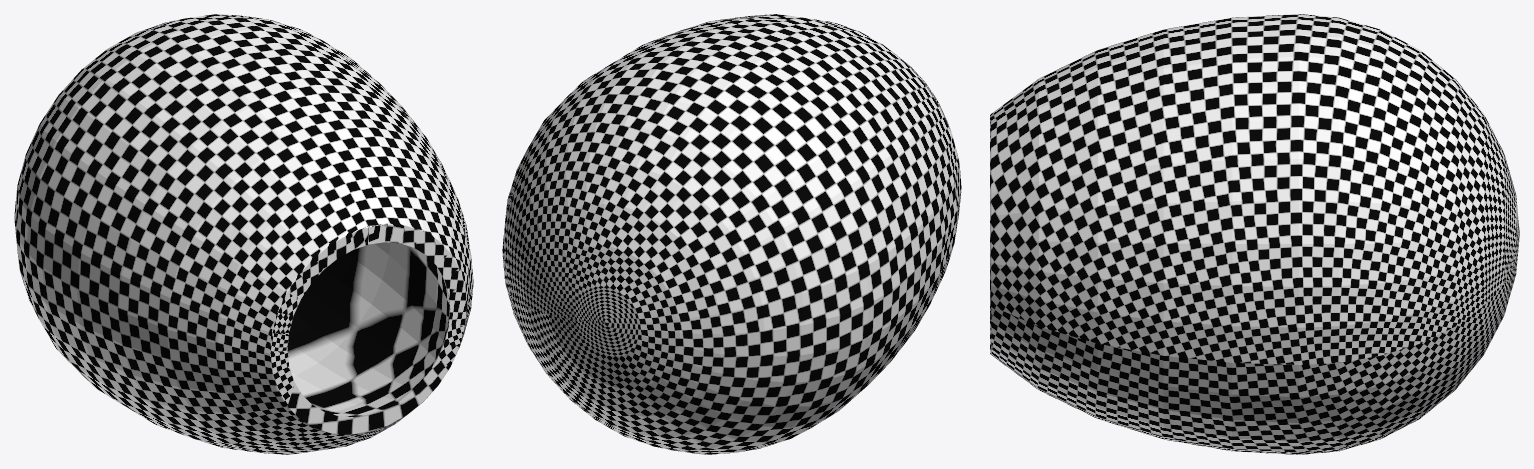
The model's file is egg-3.obj.
The picture shows the model from 3 angles, left to right: view 1: azimuth 30°, elevation 25°; view 2: azimuth 150°, elevation 25°; view 3: azimuth 270°, elevation 25°; orthographic projection. The views are drawn at different scales.
Bounding box in the file's own units: 45 × 45 × 54.
